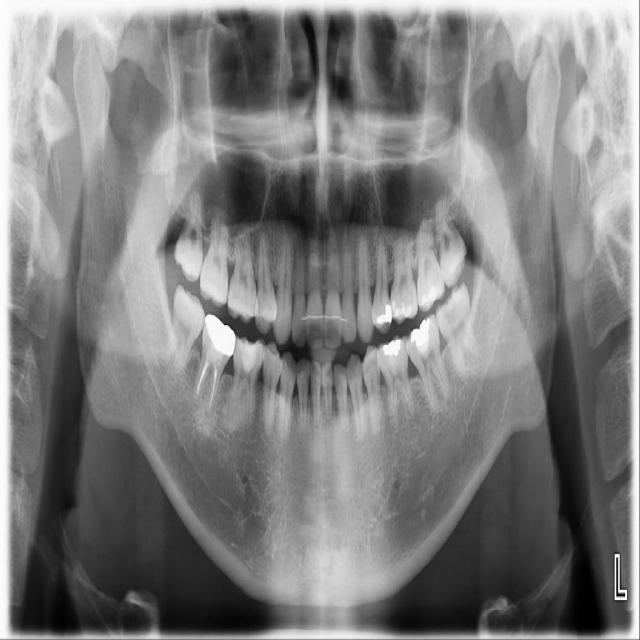Crown: (201, 312, 235, 364)
Filling: (232, 335, 265, 377), (408, 318, 431, 350), (369, 302, 392, 331), (389, 301, 415, 322), (383, 337, 404, 359)
Root Canal Treatment: (197, 355, 210, 395), (209, 368, 218, 405)
